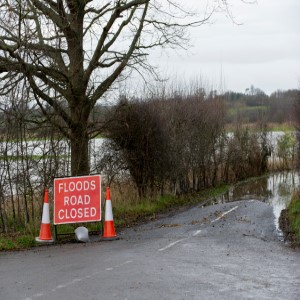traffic cone: (95, 186, 121, 242), (34, 187, 55, 245)
